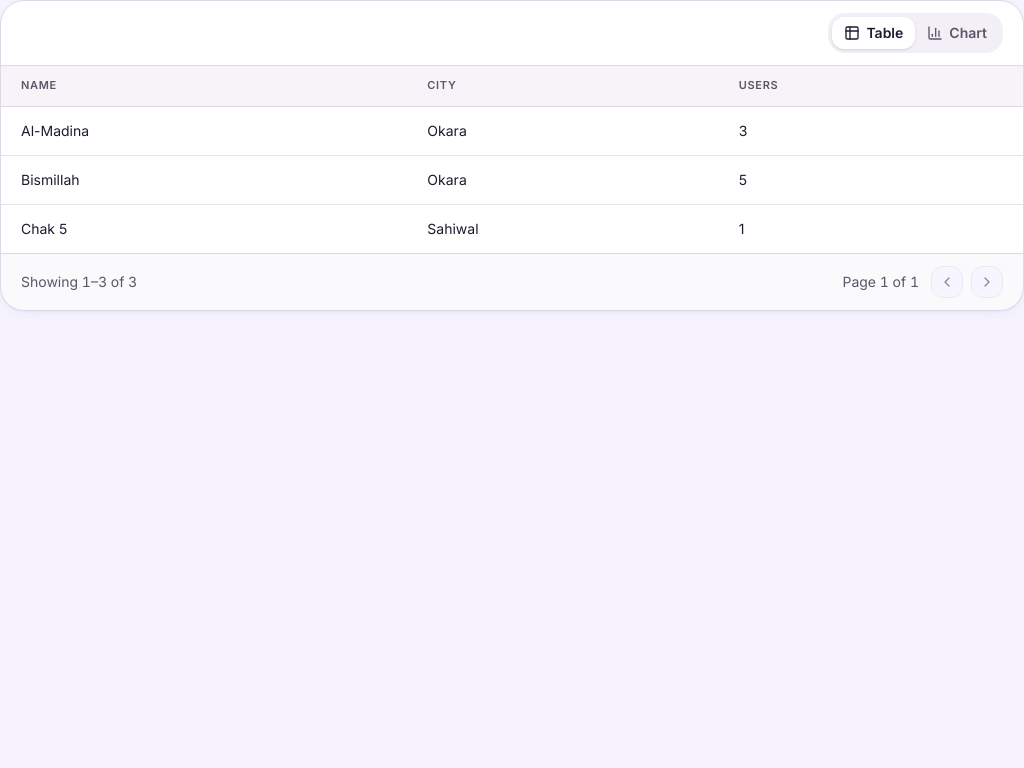
Test: DataTable chart view › swaps the table for a chart of the current rows, and back
Click the button "Chart" at x=957, y=33, box [915, 17, 999, 49]
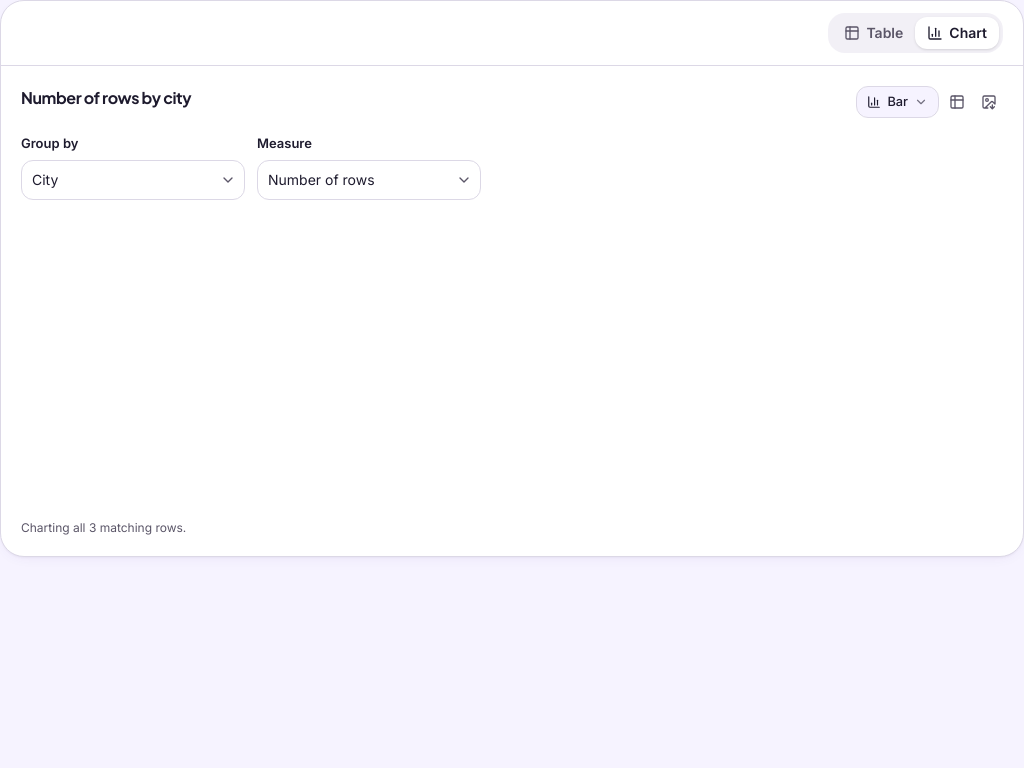
Expected: the table "Shops" is not shown
Result: the heading "Number of rows by city" is shown at [21, 87, 191, 108]
Result: the text "Charting all 3 matching rows." is shown at [21, 520, 186, 534]
Click the button "Table" at x=874, y=33, box [832, 17, 915, 49]
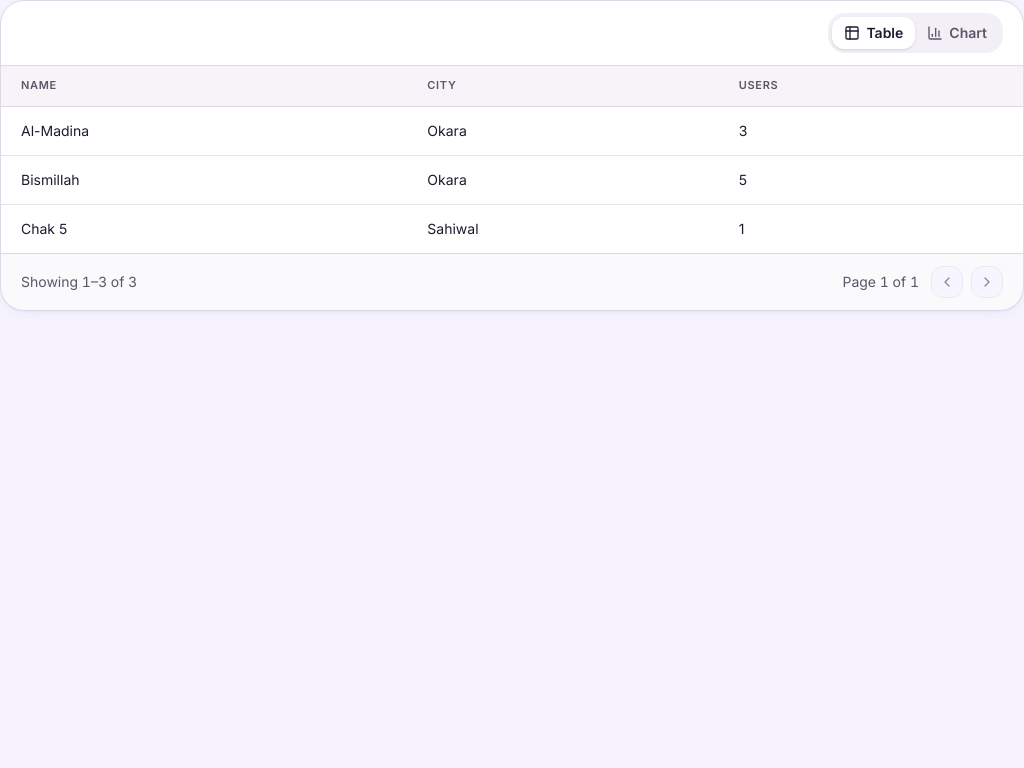
Result: the table named "Shops" is shown at [1, 66, 1023, 252]
Result: the picture with test id "data-table-chart" is gone
